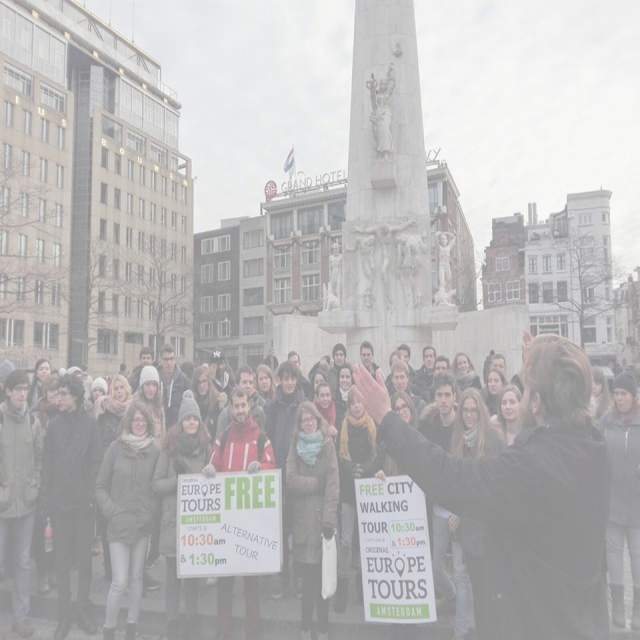pessoa: (349, 326, 614, 639), (200, 384, 279, 639), (90, 390, 164, 639), (300, 222, 466, 324), (39, 367, 101, 639), (149, 388, 214, 640), (280, 396, 346, 640), (446, 385, 508, 639), (414, 368, 472, 639), (0, 364, 46, 639), (334, 384, 387, 614), (596, 369, 640, 632), (265, 360, 310, 603), (0, 344, 136, 409), (28, 372, 61, 596), (356, 54, 404, 164), (212, 364, 268, 446), (374, 388, 422, 482), (124, 364, 168, 452), (95, 374, 134, 469), (154, 342, 193, 431), (192, 364, 226, 448), (418, 354, 464, 406), (488, 382, 524, 447), (389, 360, 427, 416), (312, 380, 342, 444), (588, 364, 612, 438), (128, 344, 161, 396), (206, 345, 236, 400), (286, 350, 316, 402), (323, 341, 350, 398), (332, 362, 355, 428), (353, 340, 386, 384), (450, 351, 482, 396), (484, 367, 509, 419), (480, 352, 510, 393), (508, 357, 534, 400), (254, 362, 278, 405), (396, 342, 418, 387), (383, 348, 406, 386), (176, 358, 199, 390), (414, 344, 437, 372), (261, 346, 279, 374), (482, 348, 496, 383), (309, 370, 326, 393)
